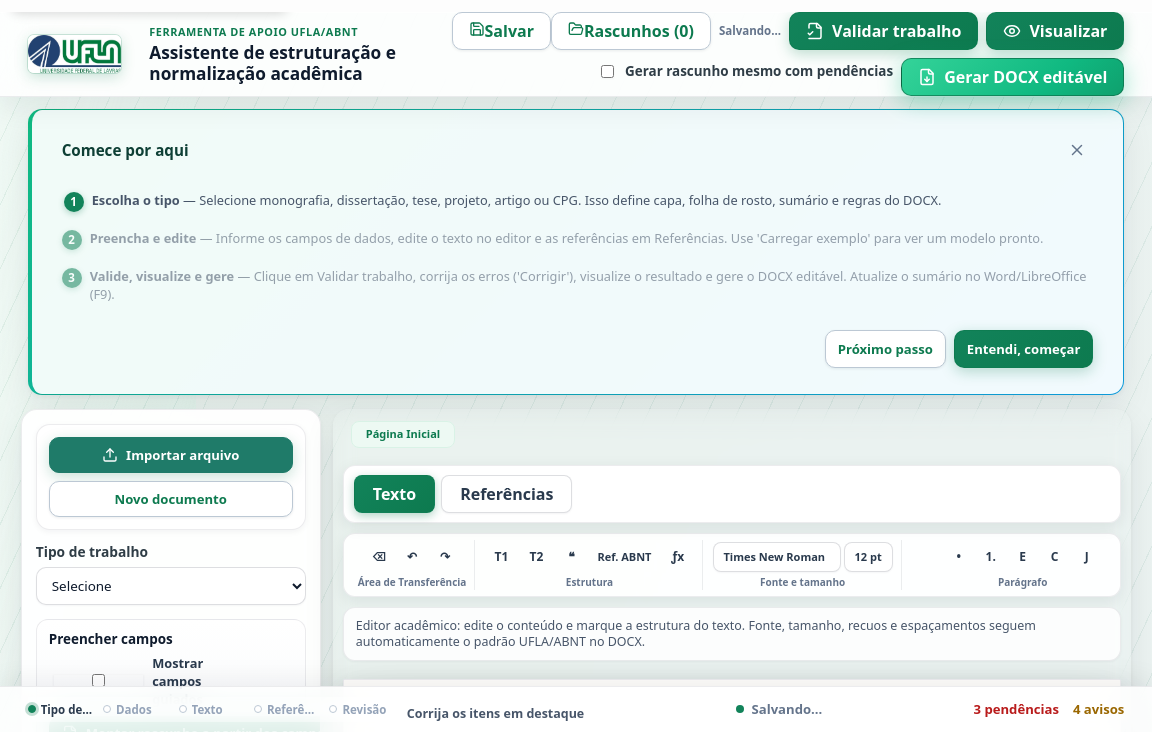
Scenario: Fase C — guia de primeiro uso (PROD-01) › 'Entendi, começar' descarta o guia e grava no localStorage
What coordinates should you click on to do the following:
click the button "Entendi, começar"
I would click on:
 (1024, 349)
Its box is [954,330,1093,368].
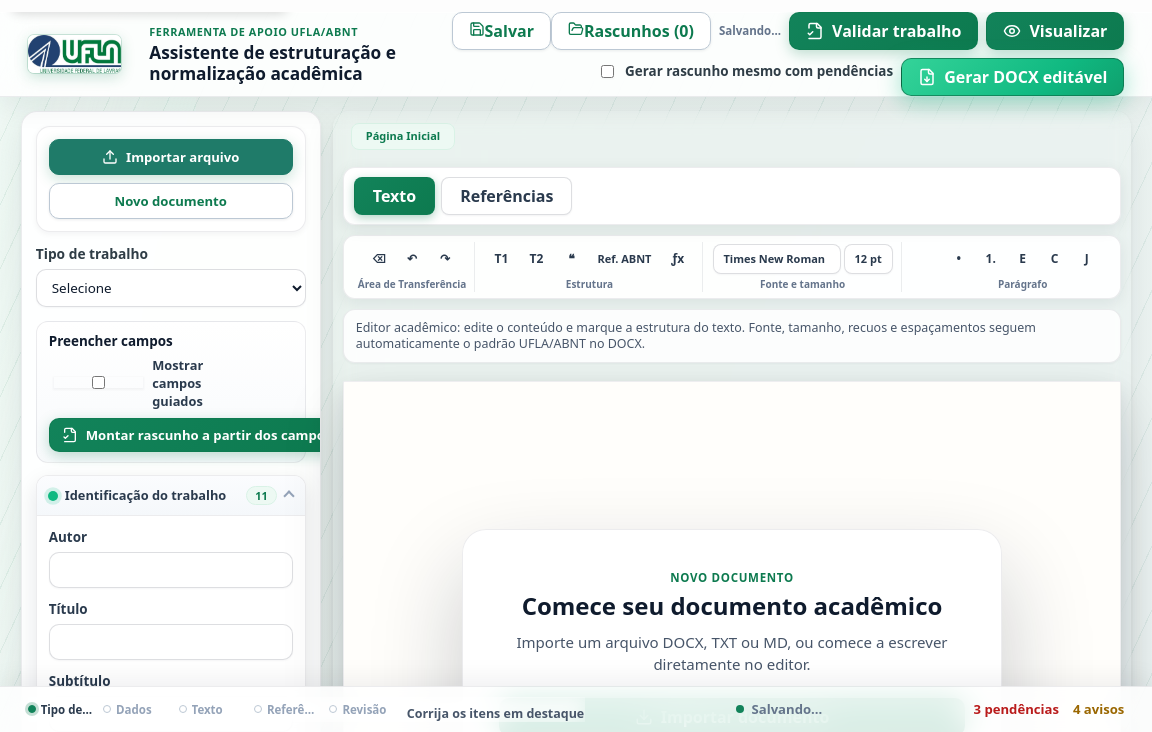
Expected: the heading "Comece por aqui" is gone
